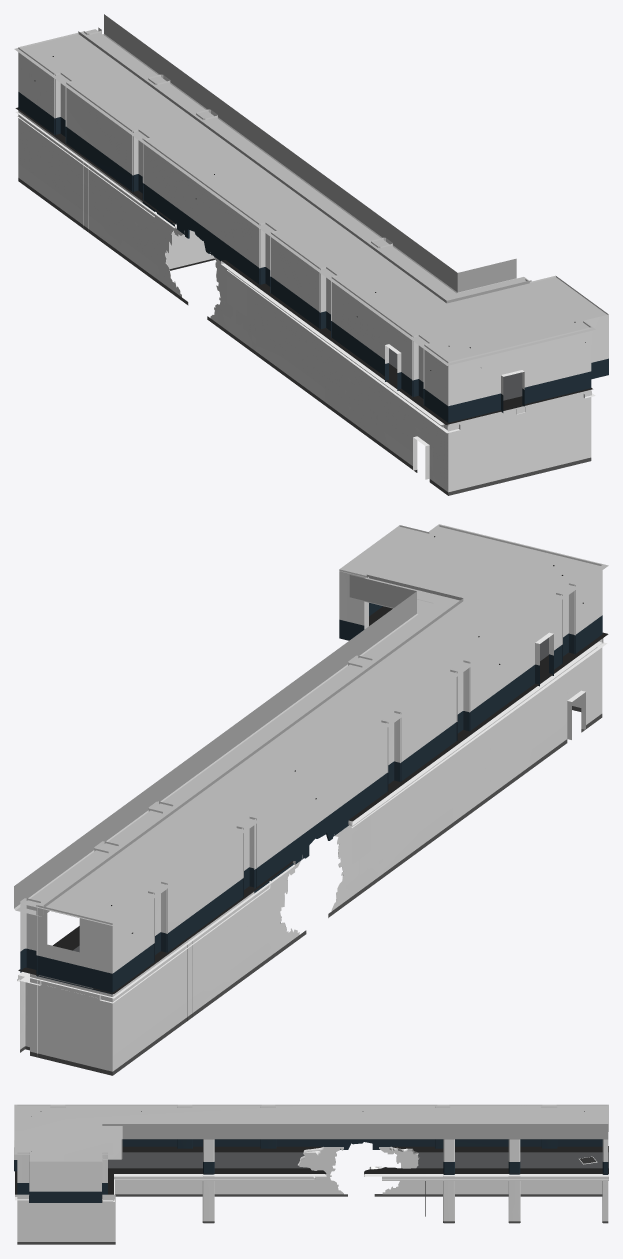
File: SM_H_Building_Tide_Bathhouse_01_ATLAS.fbx
3 renders of one model, top to bottom at view 1: azimuth 30°, elevation 25°; view 2: azimuth 150°, elevation 25°; view 3: azimuth 270°, elevation 25°, orthographic. The views are drawn at different scales.
Visible parts, largest first — view 1: SM_H_Building_Tide_Bathhouse_01_ATLAS; view 2: SM_H_Building_Tide_Bathhouse_01_ATLAS; view 3: SM_H_Building_Tide_Bathhouse_01_ATLAS.
Boxes of the visible parts, <box> form: SM_H_Building_Tide_Bathhouse_01_ATLAS: <box>14,14,608,495</box>; SM_H_Building_Tide_Bathhouse_01_ATLAS: <box>14,524,608,1075</box>; SM_H_Building_Tide_Bathhouse_01_ATLAS: <box>14,1104,608,1244</box>.
Bounding box in the file's own units: 1302 × 5635 × 1047.
